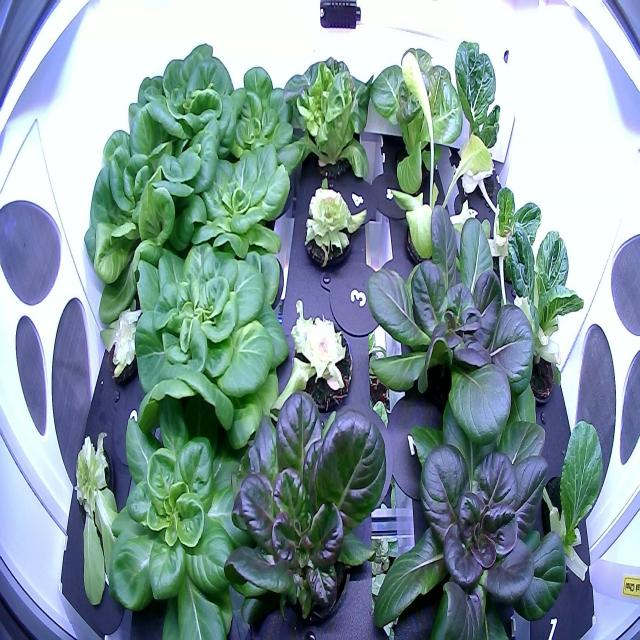Ready: (74, 121, 196, 328), (124, 38, 245, 180)
young: (366, 383, 576, 640), (356, 192, 546, 461), (219, 373, 393, 640), (116, 226, 297, 454), (100, 395, 258, 640), (175, 133, 296, 270), (203, 56, 312, 200)
